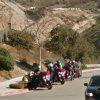Motorcycle: (22, 55, 85, 89)
